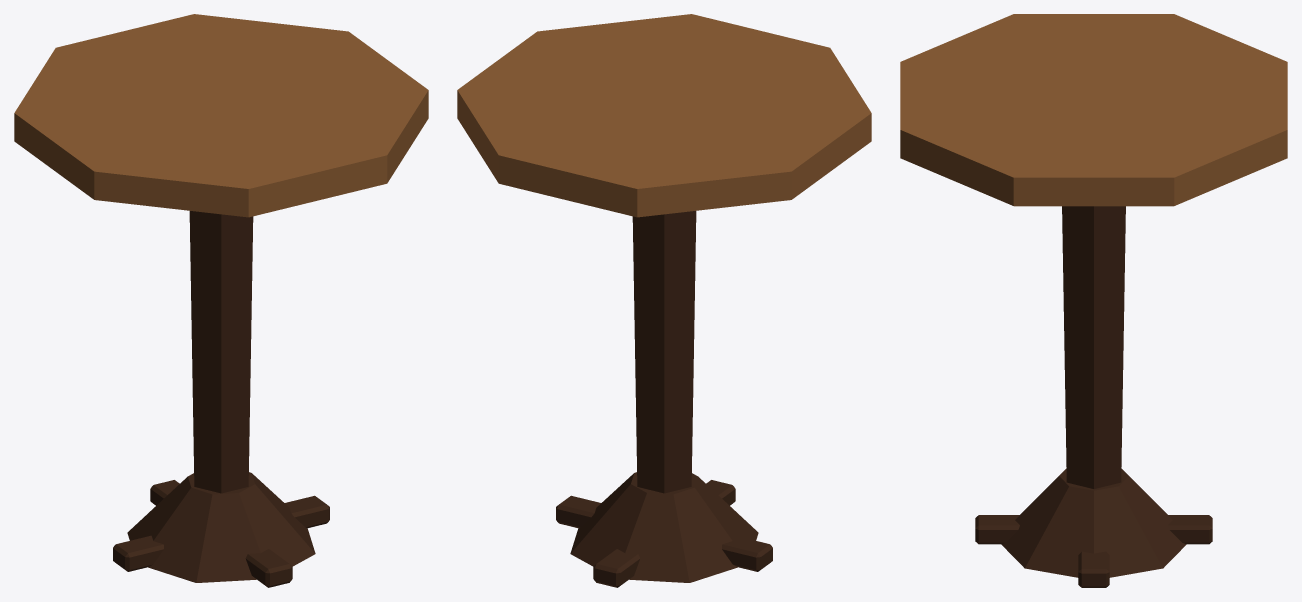
Rendered from table_small.glb.
3 views of the same model, side by side, from view 1: azimuth 30°, elevation 25°; view 2: azimuth 150°, elevation 25°; view 3: azimuth 270°, elevation 25° (orthographic).
Parts seen in each view (by area): view 1: table_small; view 2: table_small; view 3: table_small.
Boxes of the visible parts, x1,y1,x2,y2 form: table_small: [14, 14, 428, 587]; table_small: [457, 14, 871, 587]; table_small: [900, 14, 1287, 587].
Size of the model in its own units: 0.5543 by 0.7 by 0.5543.
